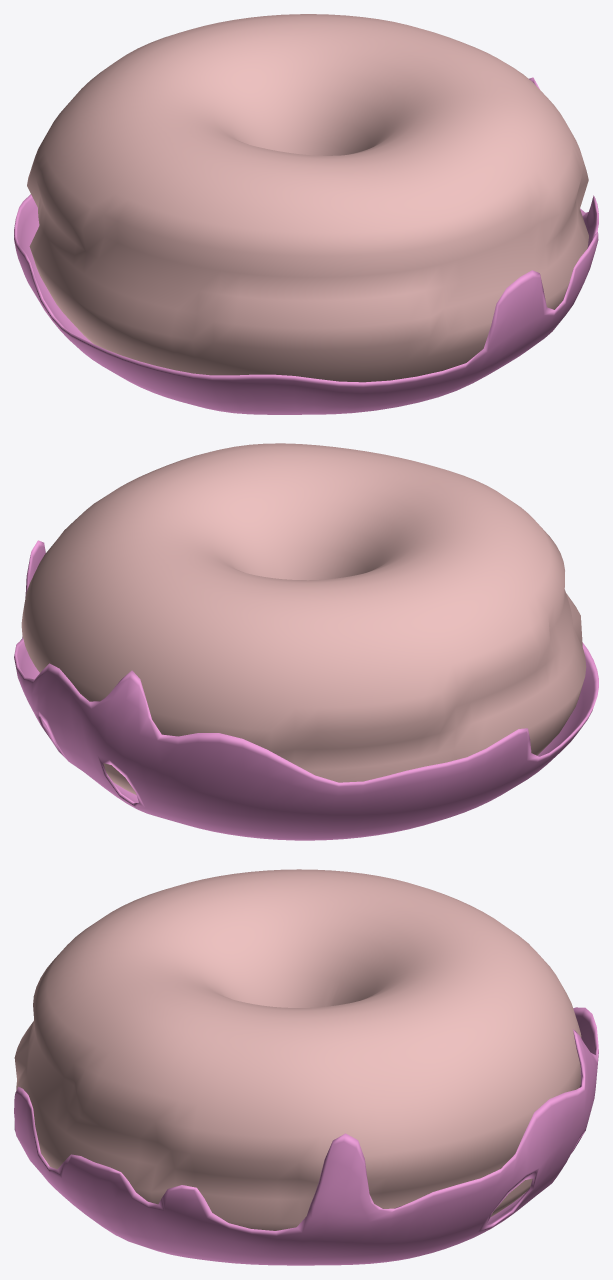
File: nut.glb
The picture shows the model from 3 angles, top to bottom: view 1: azimuth 30°, elevation 25°; view 2: azimuth 150°, elevation 25°; view 3: azimuth 270°, elevation 25°; orthographic projection. The views are drawn at different scales.
Parts seen in each view (by area): view 1: Torus.001, icing; view 2: Torus.001, icing; view 3: Torus.001, icing.
Boxes of the visible parts, x1,y1,x2,y2 form: Torus.001: (27, 14, 588, 382); icing: (14, 77, 598, 414); Torus.001: (21, 443, 586, 794); icing: (14, 540, 598, 840); Torus.001: (14, 869, 581, 1230); icing: (14, 1007, 598, 1265).
Size of the model in its own units: 0.1022 by 0.0471 by 0.101.
